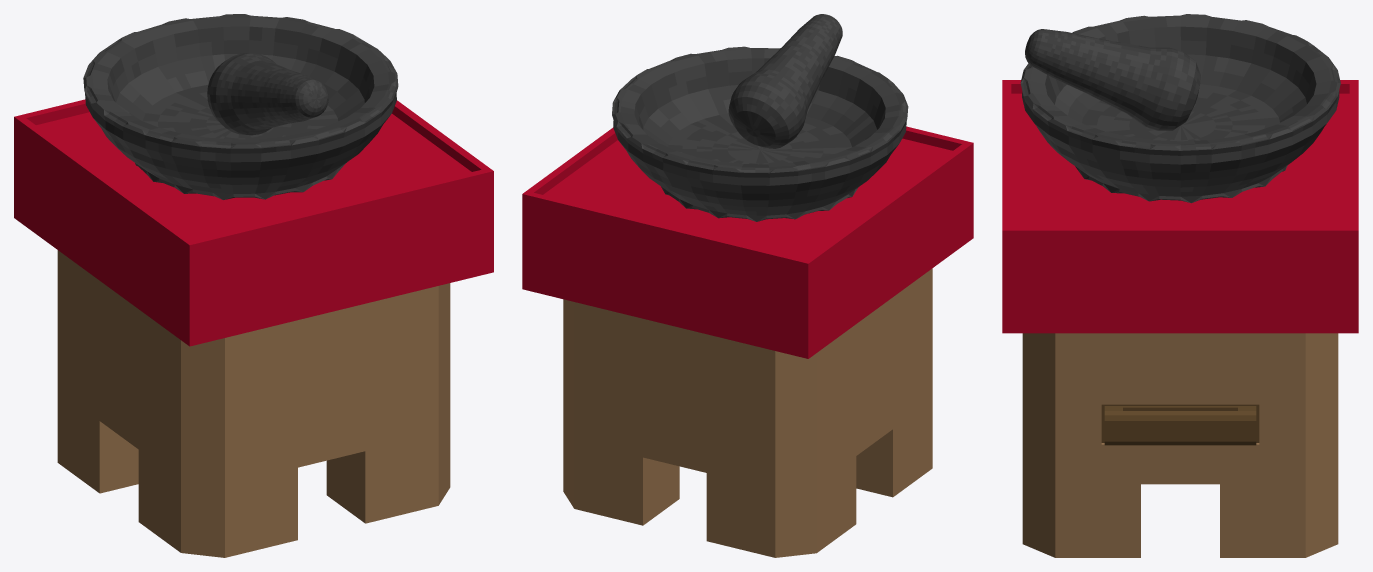
File: Pounding_Station.fbx
3 views of the same model, side by side, from view 1: azimuth 30°, elevation 25°; view 2: azimuth 150°, elevation 25°; view 3: azimuth 270°, elevation 25° (orthographic). The views are drawn at different scales.
Parts seen in each view (by area): view 1: Table, Pounded, Cylinder; view 2: Table, Pounded, Cylinder; view 3: Table, Pounded, Cylinder.
Boxes of the visible parts, left/top/right/bottom form: Table: left=14, top=99, right=493, bottom=557; Pounded: left=83, top=14, right=398, bottom=199; Cylinder: left=207, top=53, right=328, bottom=135; Table: left=522, top=126, right=973, bottom=557; Pounded: left=612, top=46, right=908, bottom=221; Cylinder: left=728, top=14, right=842, bottom=148; Table: left=1002, top=80, right=1358, bottom=557; Pounded: left=1020, top=14, right=1340, bottom=203; Cylinder: left=1025, top=29, right=1200, bottom=130.
Size of the model in its own units: 199 by 279 by 199.
